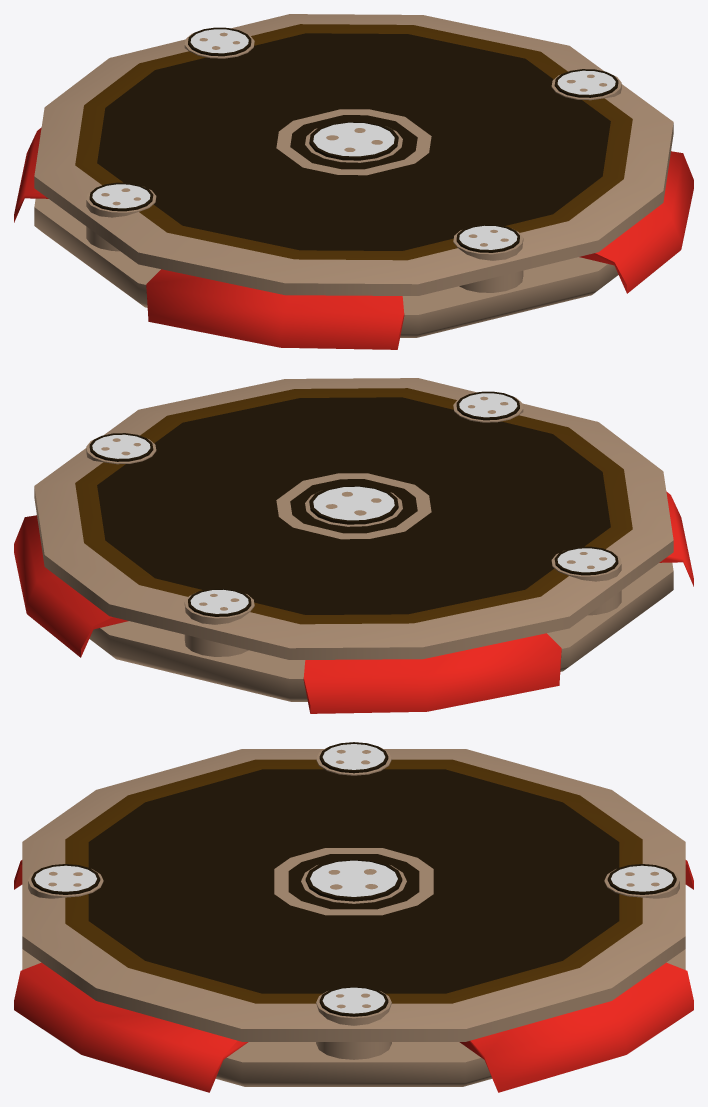
Rendered from Level.3.fbx.
The picture shows the model from 3 angles, top to bottom: view 1: azimuth 30°, elevation 25°; view 2: azimuth 150°, elevation 25°; view 3: azimuth 270°, elevation 25°; orthographic projection. The views are drawn at different scales.
Parts seen in each view (by area): view 1: Level.3; view 2: Level.3; view 3: Level.3.
Boxes of the visible parts, x1,y1,x2,y2 form: Level.3: (14, 14, 693, 349); Level.3: (14, 378, 693, 713); Level.3: (14, 742, 693, 1092).
Size of the model in its own units: 2946 by 350 by 2964.
